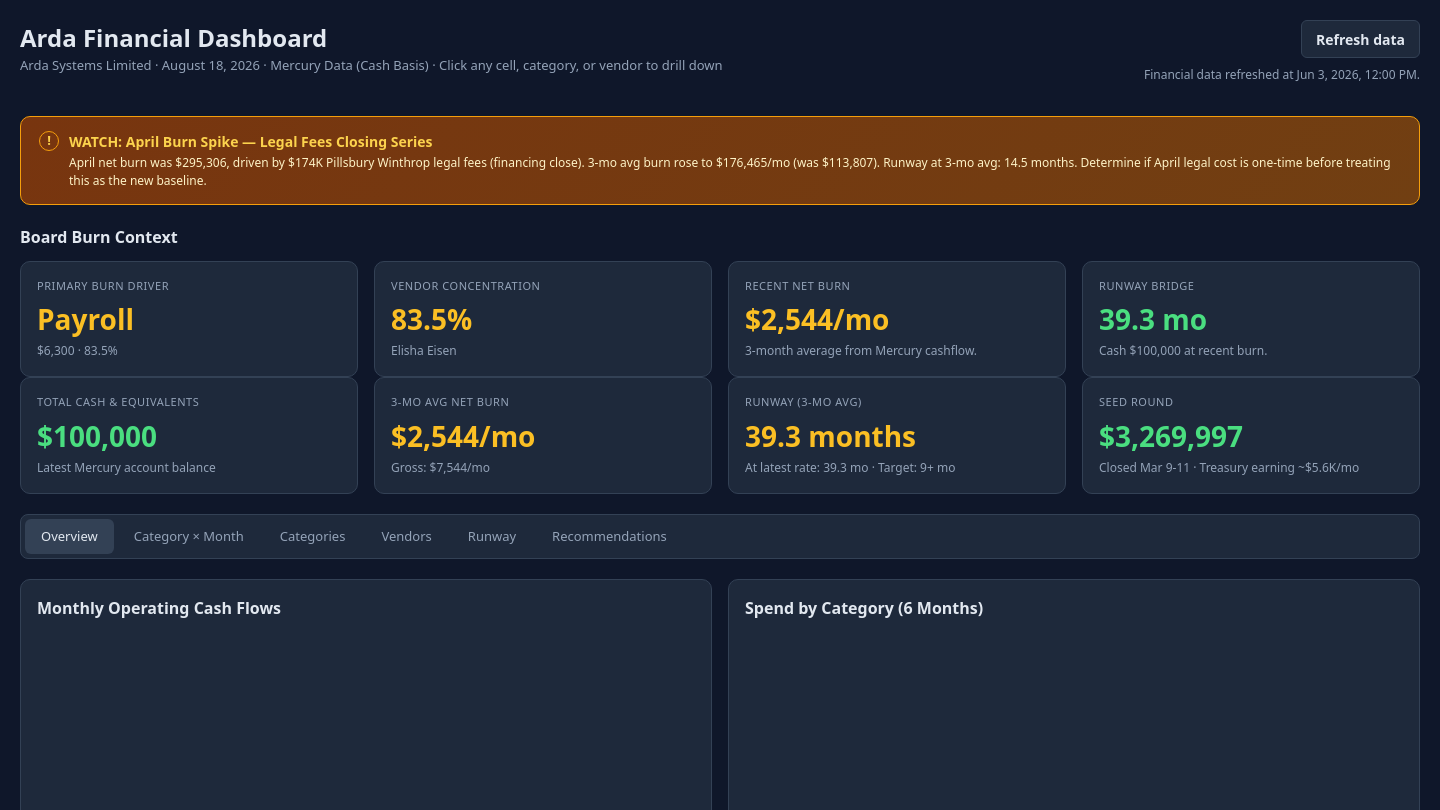
ExpenseDashboard › switches tabs and expands category drilldowns
Click the button "Categories". click: (313, 536)
box: [264,518,361,554]
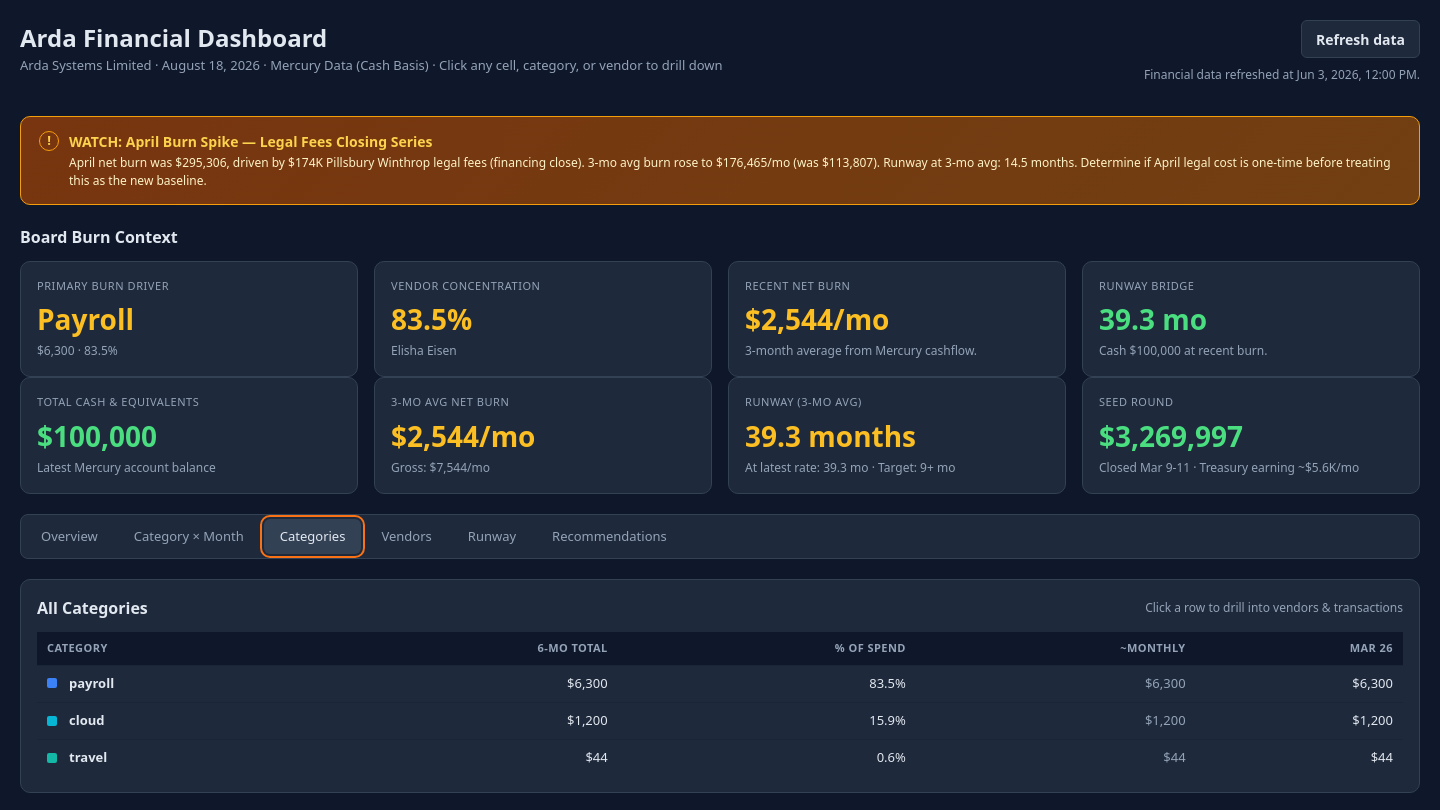
Expected: the text "All Categories" is shown, [37,597,148,619]
Click the button "cloud". click: (76, 721)
box: [47,711,104,730]
(page scrolled)
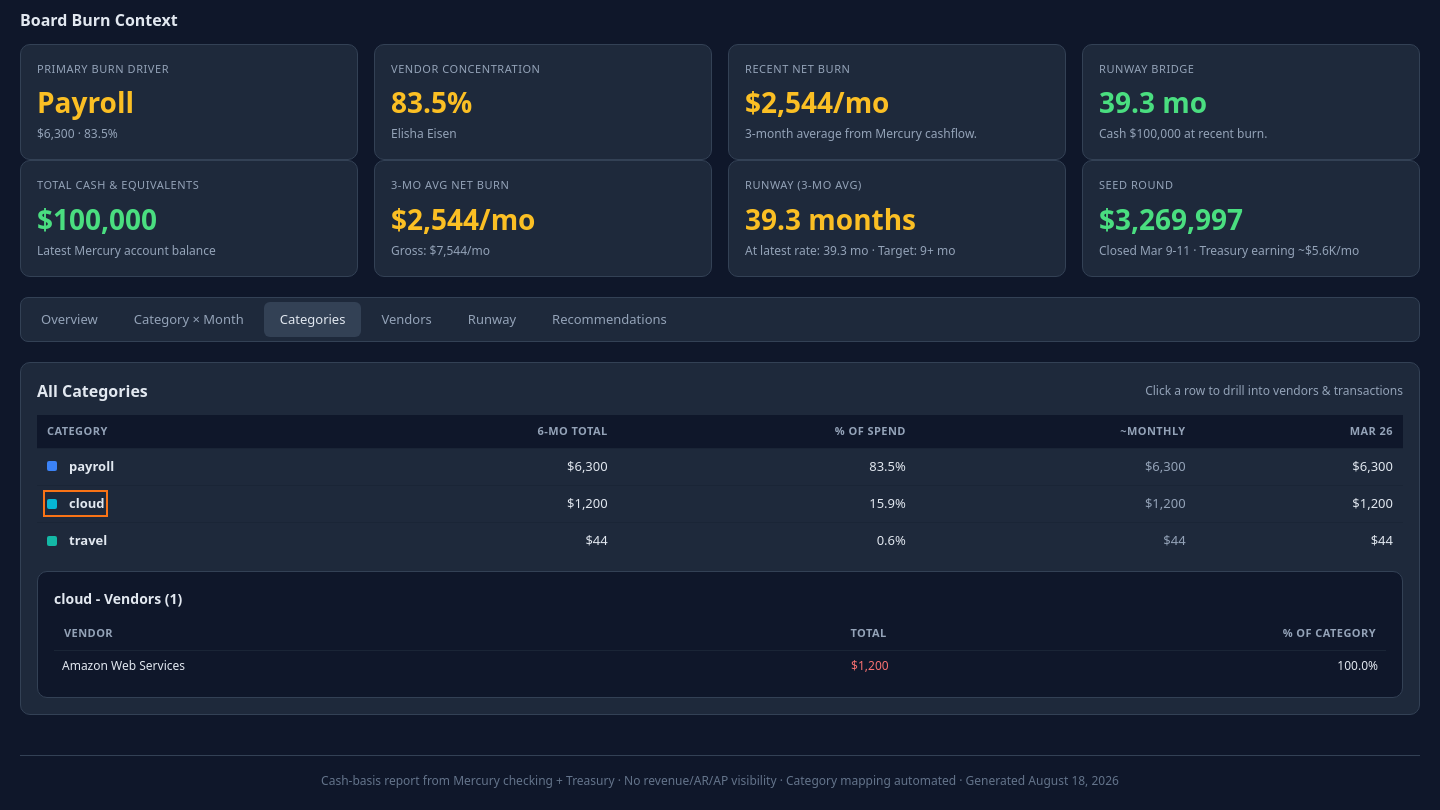
Expected: the text "cloud - Vendors (1)" is shown, [54,589,182,608]
Expected: the text "Amazon Web Services" is shown, [54,650,654,681]
